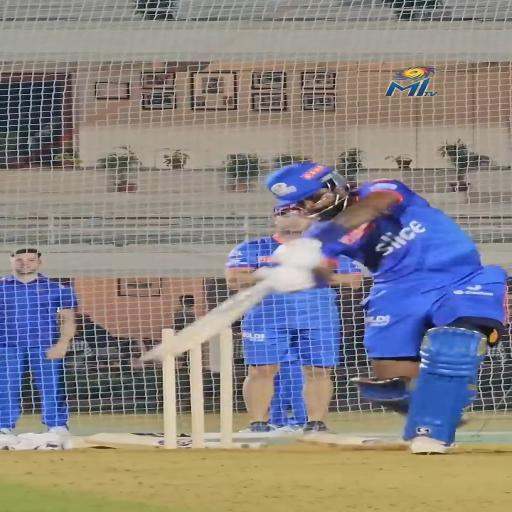Cricket bat: (144, 278, 272, 360)
